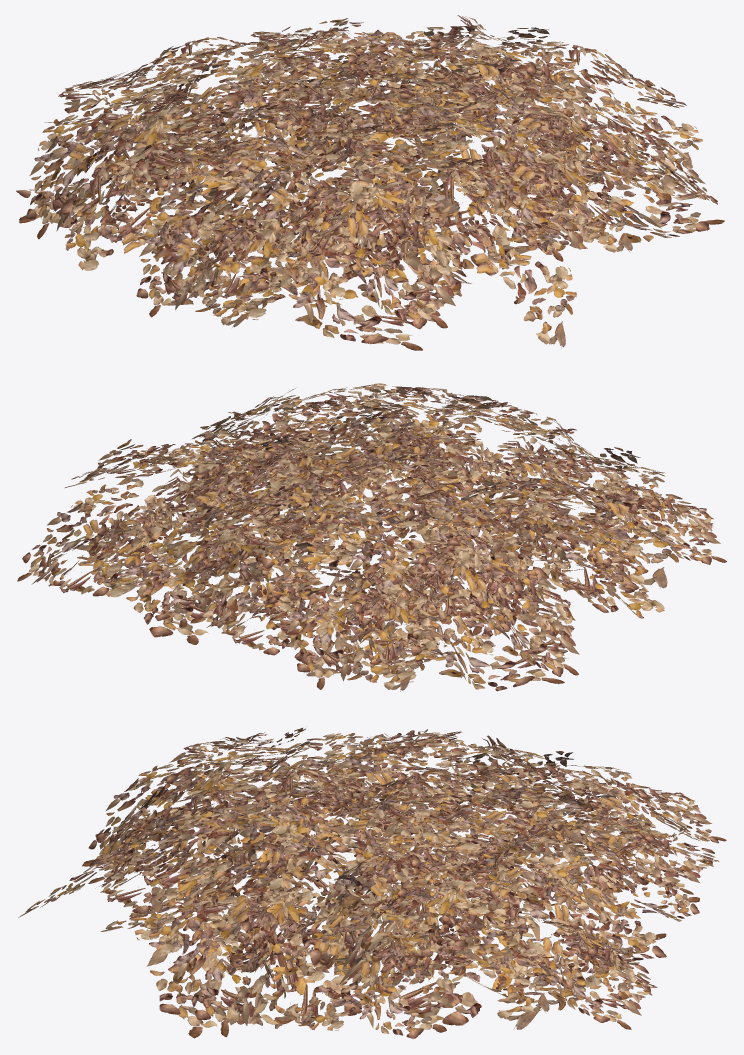
The model's file is SM_Leaves_Ground_05.fbx.
The picture shows the model from 3 angles, top to bottom: view 1: azimuth 30°, elevation 25°; view 2: azimuth 150°, elevation 25°; view 3: azimuth 270°, elevation 25°; orthographic projection. The views are drawn at different scales.
Parts seen in each view (by area): view 1: SM_Leaves_Ground_05; view 2: SM_Leaves_Ground_05; view 3: SM_Leaves_Ground_05.
Part boxes in pixels (<box>): SM_Leaves_Ground_05: <box>16,15,724,350</box>; SM_Leaves_Ground_05: <box>17,383,726,691</box>; SM_Leaves_Ground_05: <box>18,727,726,1038</box>.
Size of the model in its own units: 692 by 707 by 137.
1 material, 1 textured.
